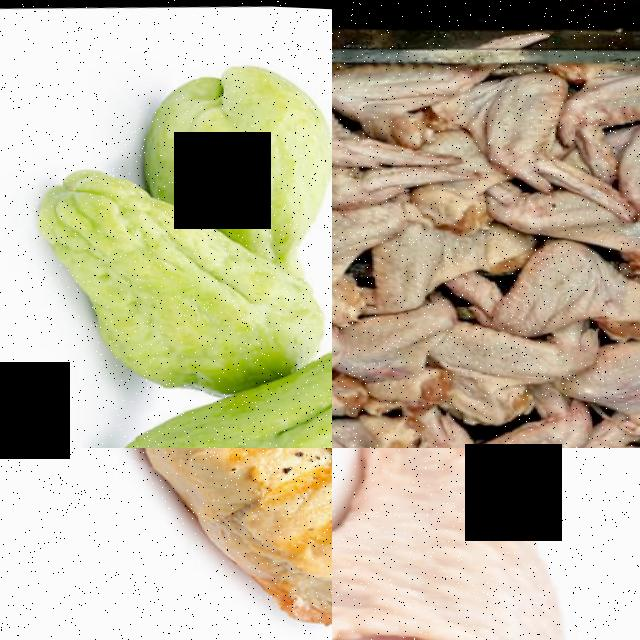chayote: (0, 196, 311, 391), (163, 27, 332, 208), (96, 365, 332, 448)
chicken thigh: (332, 448, 596, 640)
chicken wing: (496, 228, 640, 334), (448, 314, 582, 424), (474, 67, 578, 194), (332, 52, 474, 137), (332, 206, 406, 317), (581, 322, 640, 431), (332, 153, 429, 213), (562, 54, 640, 128), (474, 407, 601, 448)
